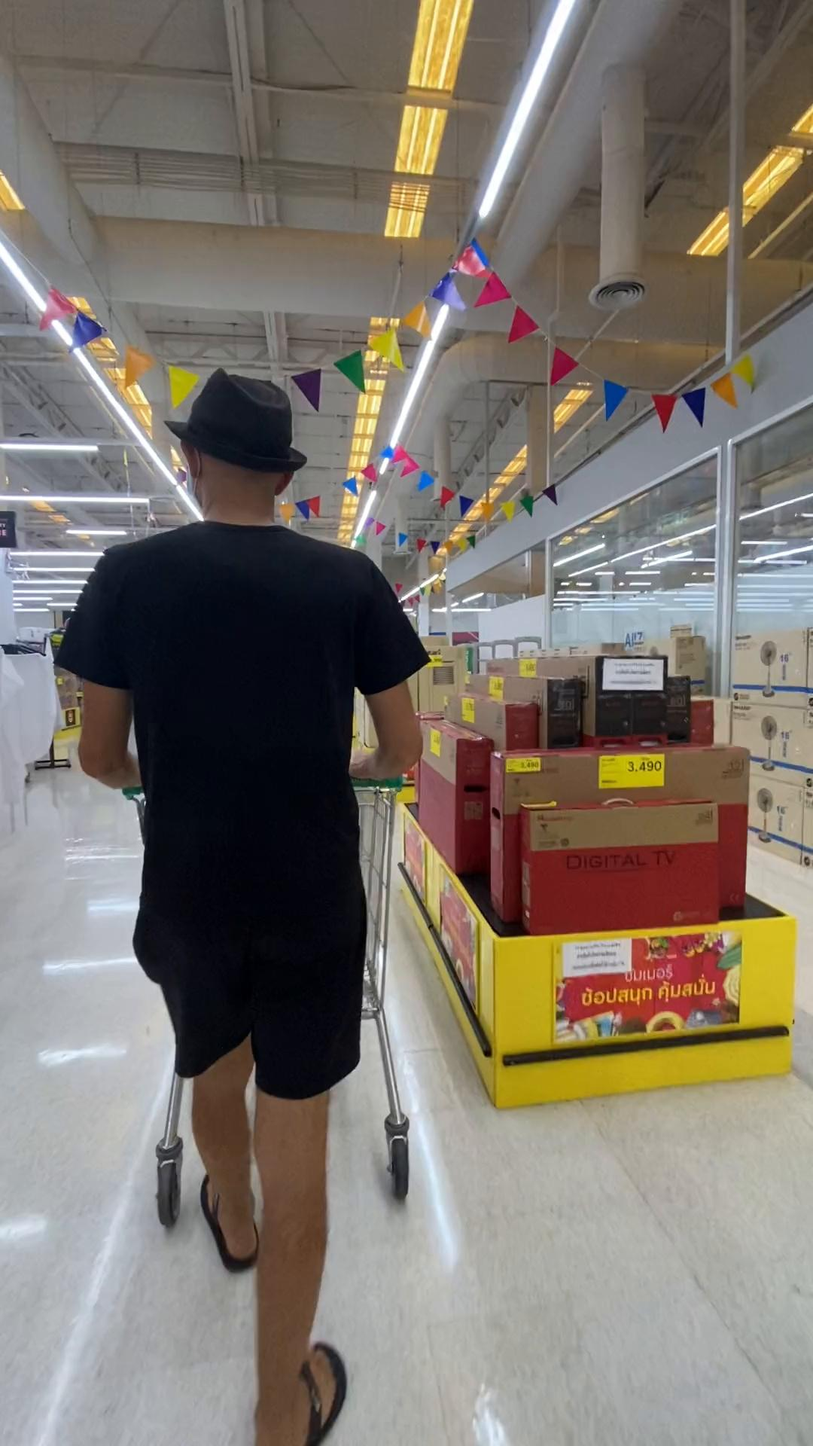Cart: (354, 777, 409, 1201), (156, 1073, 184, 1228)
Person: (60, 369, 425, 1445)
article: (522, 801, 720, 933)
